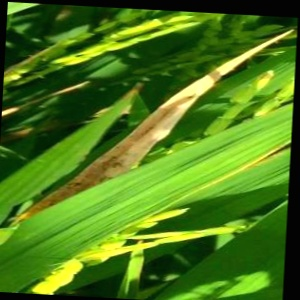Leaf_Blast: (200, 131, 288, 193)
